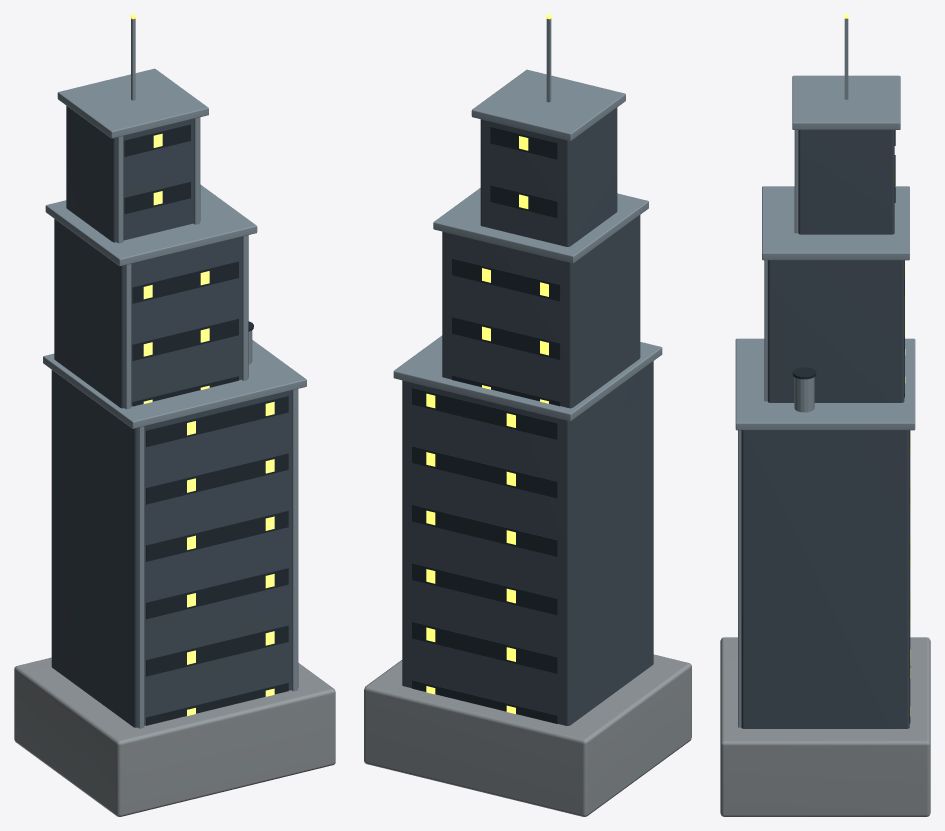
The model's file is SteppedTower.fbx.
3 views of the same model, side by side, from view 1: azimuth 30°, elevation 25°; view 2: azimuth 150°, elevation 25°; view 3: azimuth 270°, elevation 25° (orthographic). The views are drawn at different scales.
Parts seen in each view (by area): view 1: SteppedTower_Graphite, SteppedTower_Concrete, SteppedTower_Steel, SteppedTower_Dark, SteppedTower_Amber; view 2: SteppedTower_Graphite, SteppedTower_Concrete, SteppedTower_Dark, SteppedTower_Steel, SteppedTower_Amber; view 3: SteppedTower_Graphite, SteppedTower_Steel, SteppedTower_Concrete, SteppedTower_Dark.
Part boxes in pixels (left/top/right/bottom): SteppedTower_Graphite: left=51, top=106, right=298, bottom=727; SteppedTower_Concrete: left=14, top=657, right=335, bottom=816; SteppedTower_Steel: left=43, top=18, right=306, bottom=728; SteppedTower_Dark: left=124, top=124, right=288, bottom=725; SteppedTower_Amber: left=130, top=14, right=274, bottom=715; SteppedTower_Graphite: left=402, top=107, right=653, bottom=725; SteppedTower_Concrete: left=364, top=654, right=691, bottom=816; SteppedTower_Dark: left=412, top=126, right=560, bottom=723; SteppedTower_Steel: left=393, top=18, right=662, bottom=421; SteppedTower_Amber: left=426, top=14, right=551, bottom=713; SteppedTower_Graphite: left=741, top=130, right=909, bottom=728; SteppedTower_Steel: left=735, top=18, right=915, bottom=727; SteppedTower_Concrete: left=720, top=637, right=930, bottom=816; SteppedTower_Dark: left=792, top=130, right=910, bottom=723.
Bounding box in the file's own units: 1200 × 3862 × 1000.
